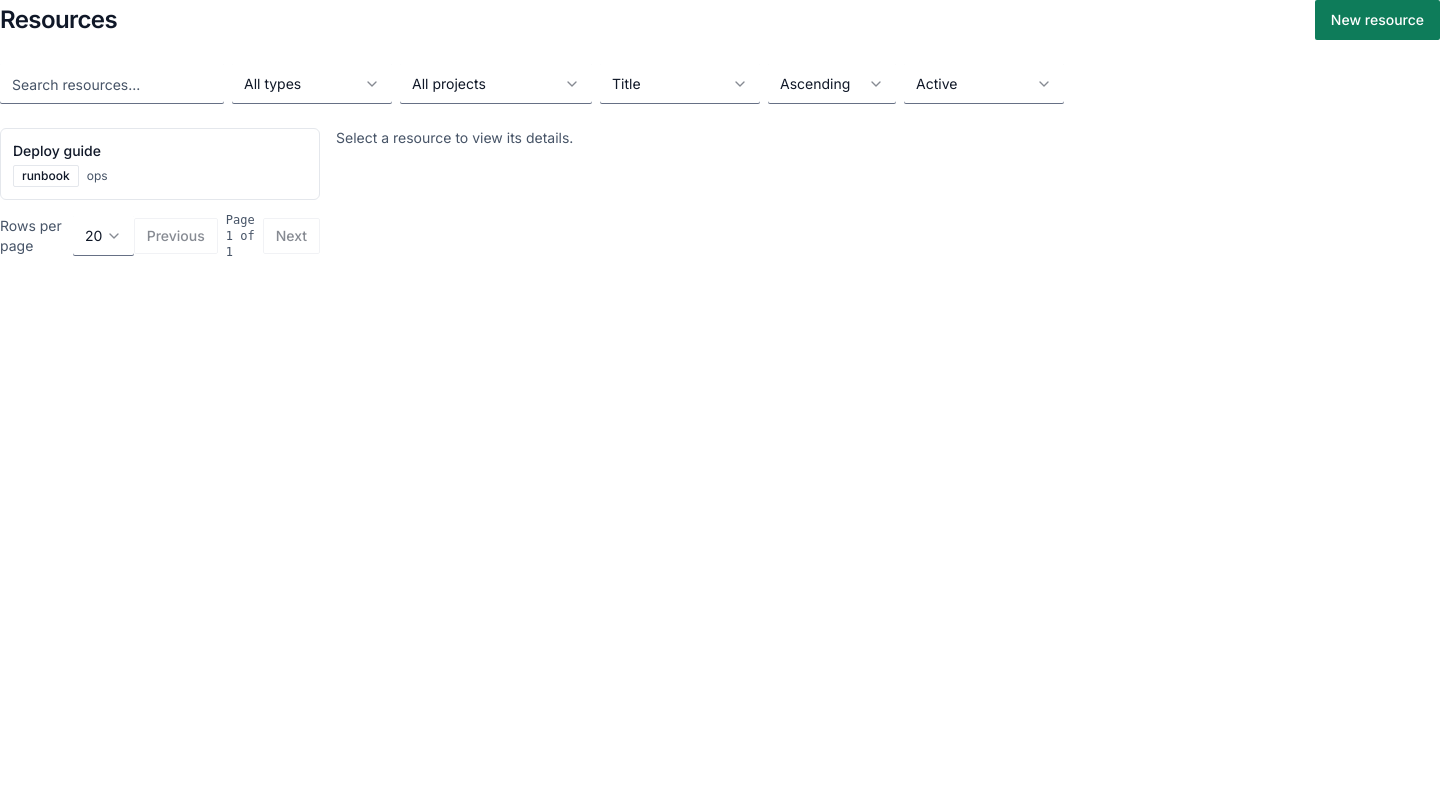
Test: ResourcesPage › revert-to-version wiring (Part 24d) › clicking 'Revert to this version' on a historical version opens the new-version form pre-filled with THAT version's content, not the current version's
Click the text "Deploy guide" at point(57, 151), box [13,141,101,161]
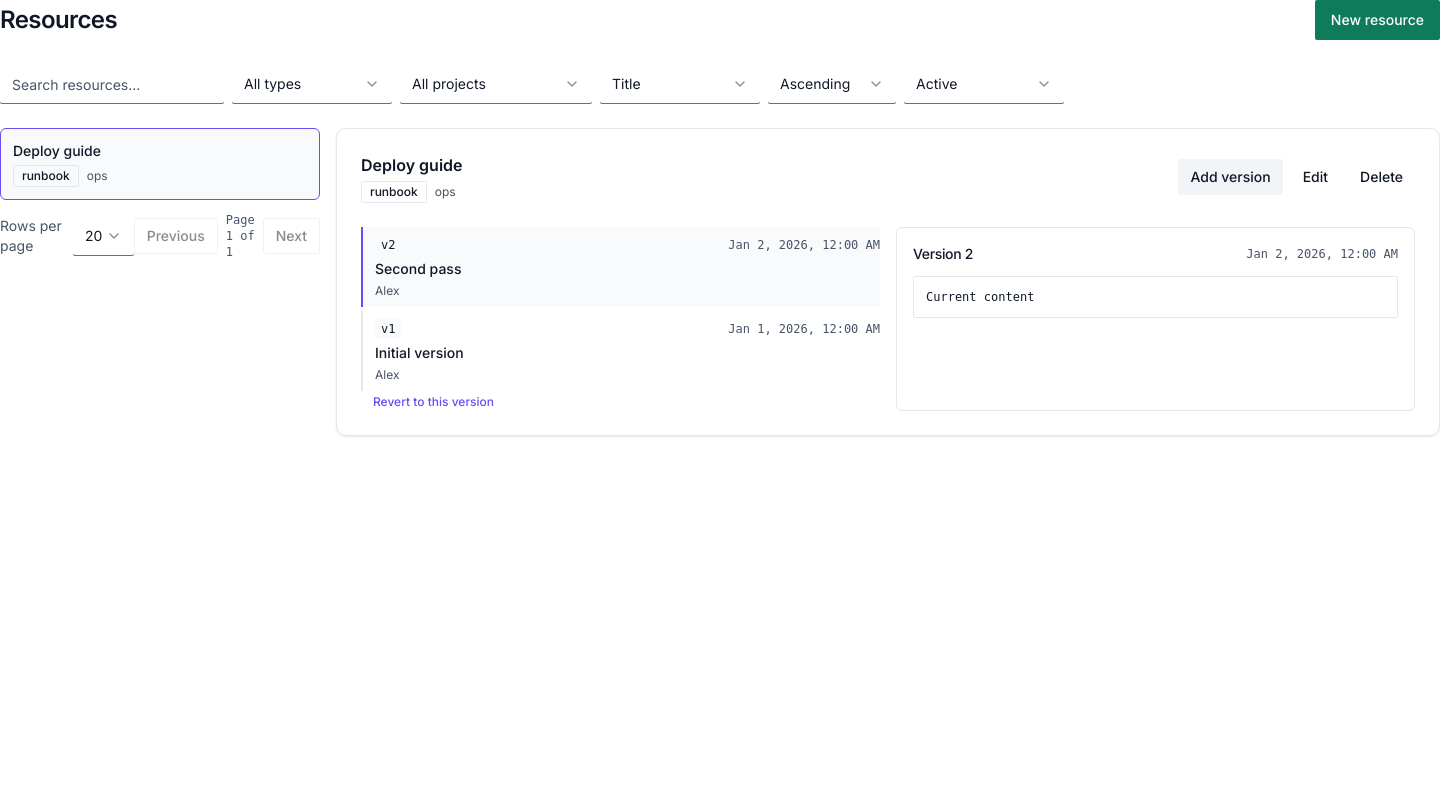
Expected: the text "Second pass" is shown, [375,259,461,279]
Click the button "Revert to this version" at point(428, 402), box [361,394,494,410]
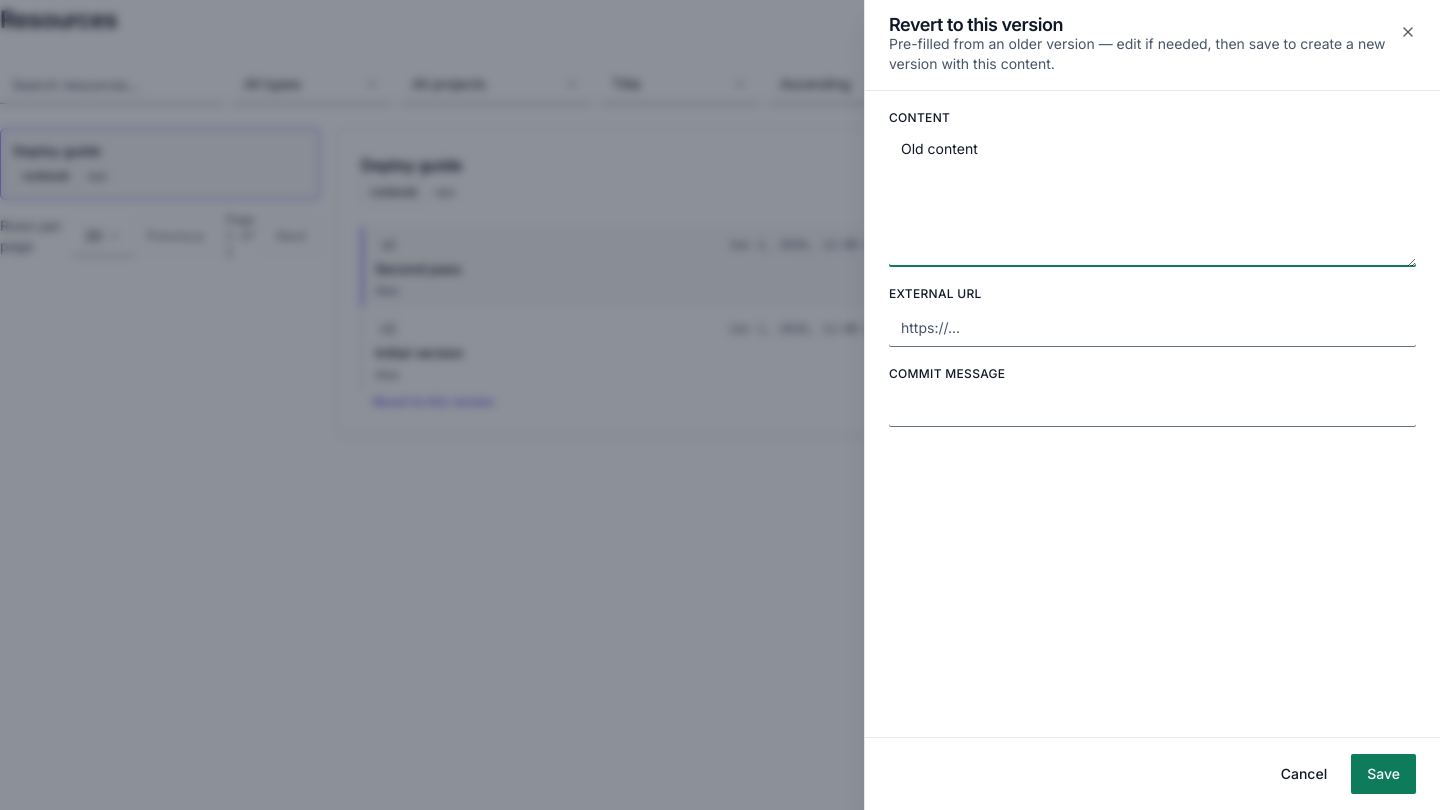
Expected: the text "Pre-filled from an older version" is shown, [889,35,1386,72]
Expected: the text box labelled "Content" holds "Old content", [889,131,1416,267]
